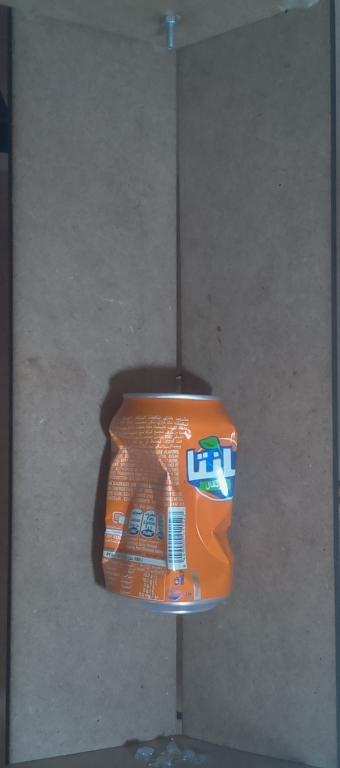Canette: (88, 383, 250, 626)
